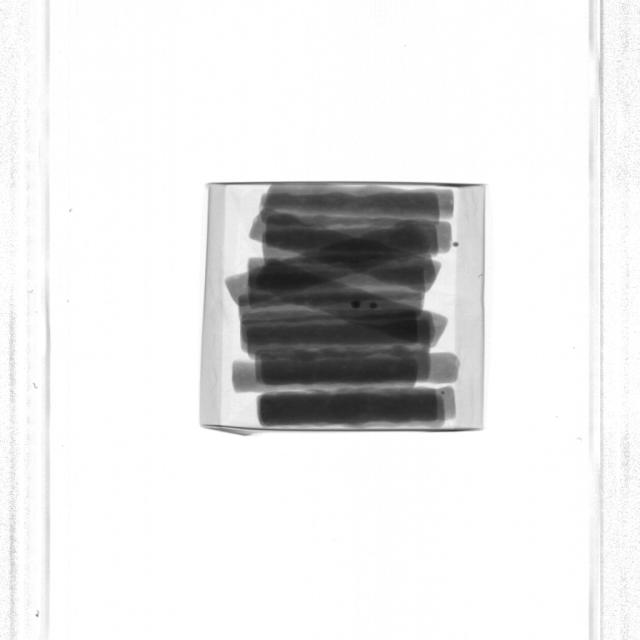ym: (351, 301, 361, 309), (369, 302, 378, 310), (454, 242, 459, 247), (441, 391, 445, 395)
